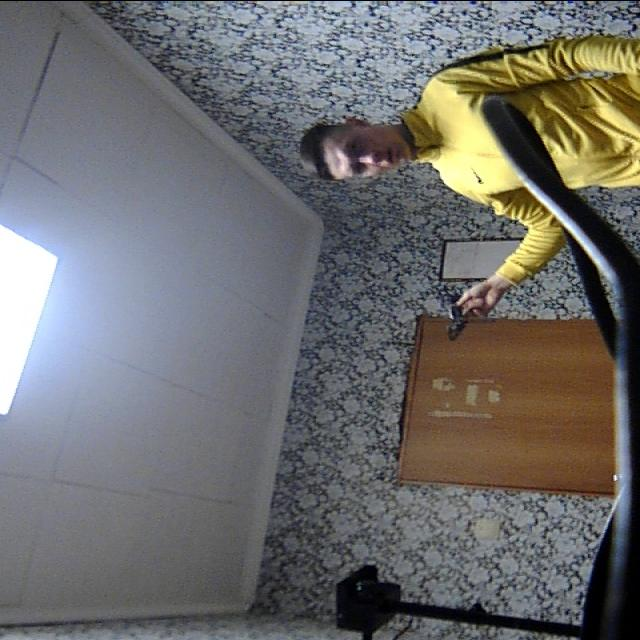drone: (433, 277, 475, 343)
